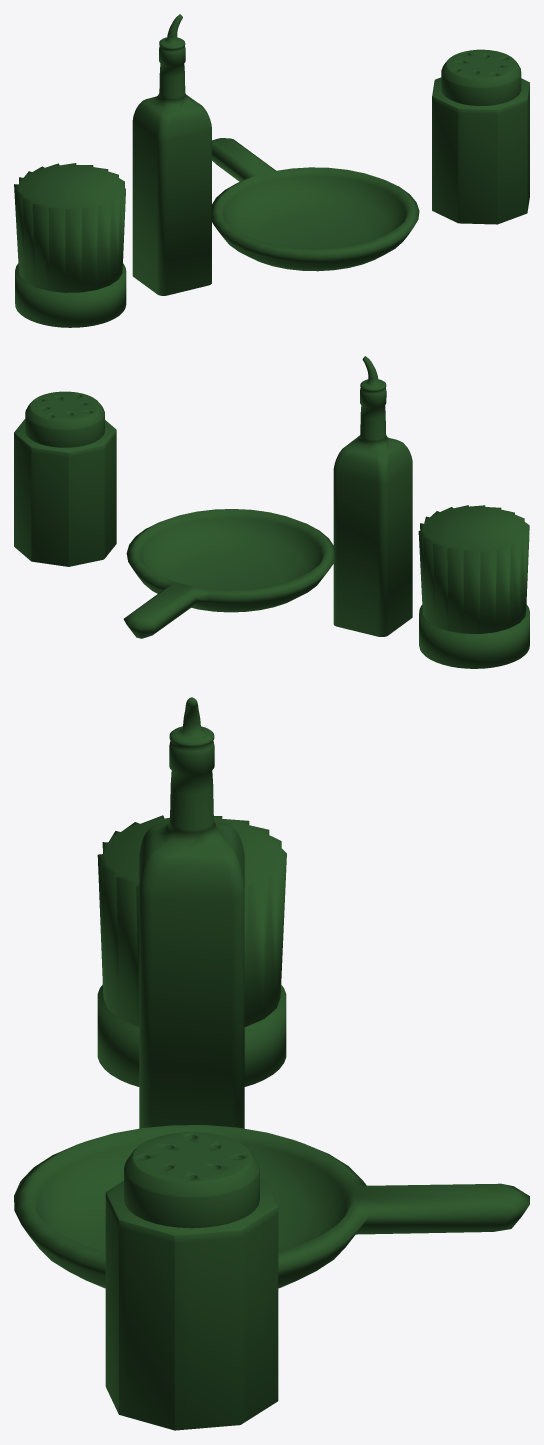
The model's file is scenePion.glb.
3 renders of one model, top to bottom at view 1: azimuth 30°, elevation 25°; view 2: azimuth 150°, elevation 25°; view 3: azimuth 270°, elevation 25°, orthographic. The views are drawn at different scales.
Parts seen in each view (by area): view 1: Poele (1), Untitled (1), Bouteille, sel; view 2: Poele (1), Untitled (1), Bouteille, sel; view 3: sel, Bouteille, Poele (1), Untitled (1).
Boxes of the visible parts, x1,y1,x2,y2 form: Poele (1): (212,138,419,271); Untitled (1): (14,163,126,327); Bouteille: (132,14,211,295); sel: (432,49,529,224); Poele (1): (123,509,333,638); Untitled (1): (418,505,529,668); Bouteille: (333,356,412,636); sel: (14,391,116,566); sel: (105,1132,278,1430); Bouteille: (139,697,244,1128); Poele (1): (14,1125,529,1288); Untitled (1): (97,815,286,1086).
Bounding box in the file's own units: 11.22 × 5.62 × 5.86.
